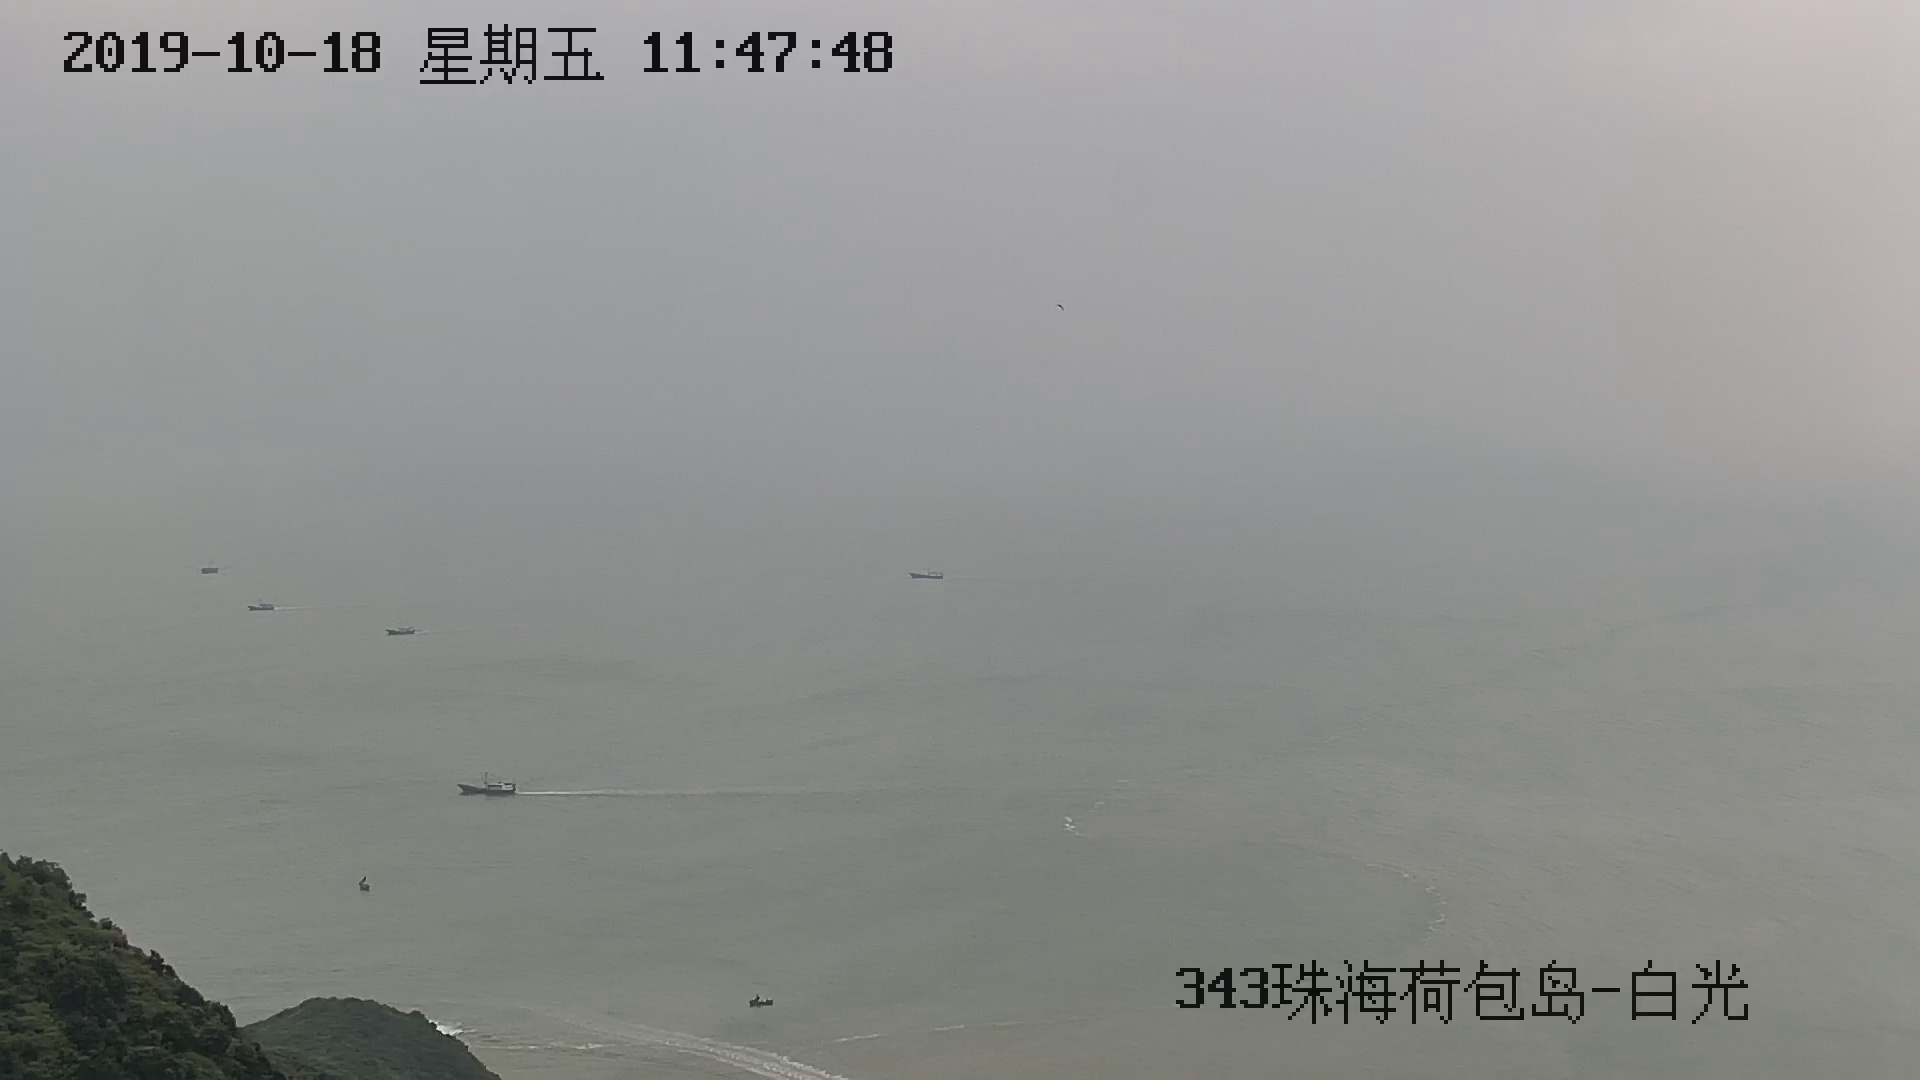ship: (458, 775, 516, 798)
